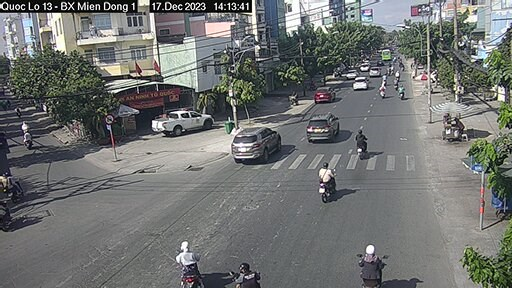car: (230, 127, 280, 163), (152, 112, 215, 136), (305, 111, 338, 142), (315, 85, 335, 106), (352, 76, 371, 94), (368, 68, 382, 79)
motorbike: (315, 160, 338, 202), (356, 125, 371, 160), (397, 86, 405, 98)
